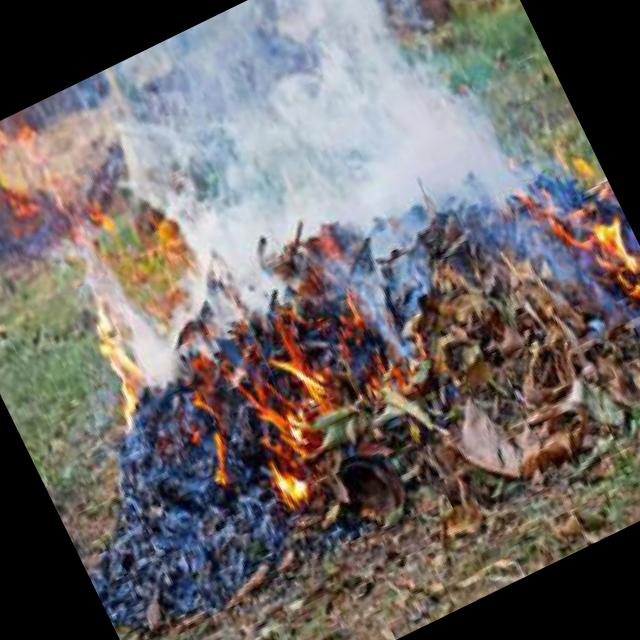fire: (214, 349, 372, 523), (59, 268, 179, 437), (542, 183, 640, 371)
smoke: (72, 0, 551, 362)
